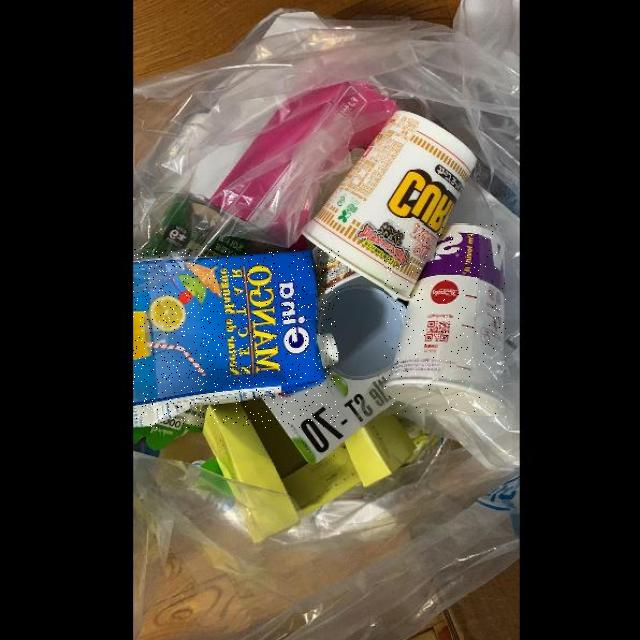paper: (133, 249, 339, 428), (385, 224, 506, 415)
